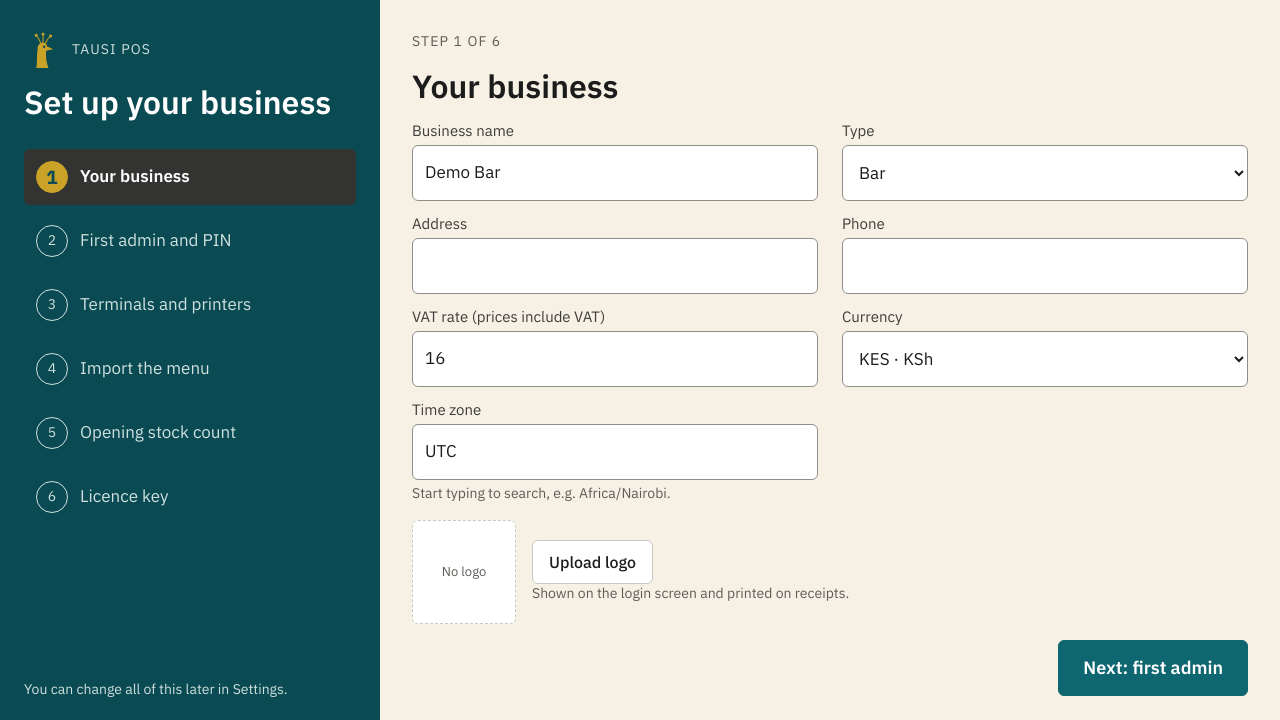
Test: Setup wizard › step 1 saves the business and shows its errors; Next goes to the owner
This screenshot has width=1280, height=720.
Check: the heading "Your business" is shown, box [412,65,618,107]
Check: the field labelled "Business name" holds "Demo Bar", box [412,145,818,201]
Click the button "Next: first admin" at (1153, 668), box [1058,640,1248,696]
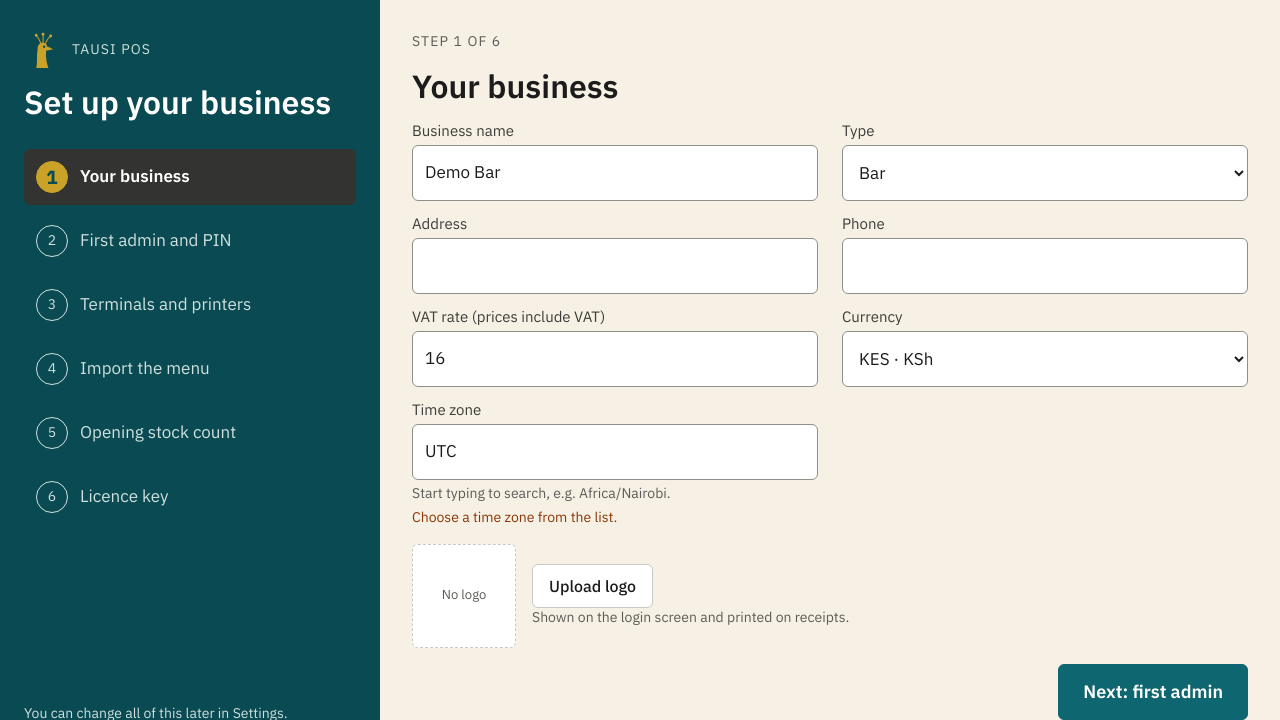
Check: the text "Choose a time zone from the list." is shown, box [412,508,617,526]
Click the button "Next: first admin" at (1153, 692), box [1058,664,1248,719]
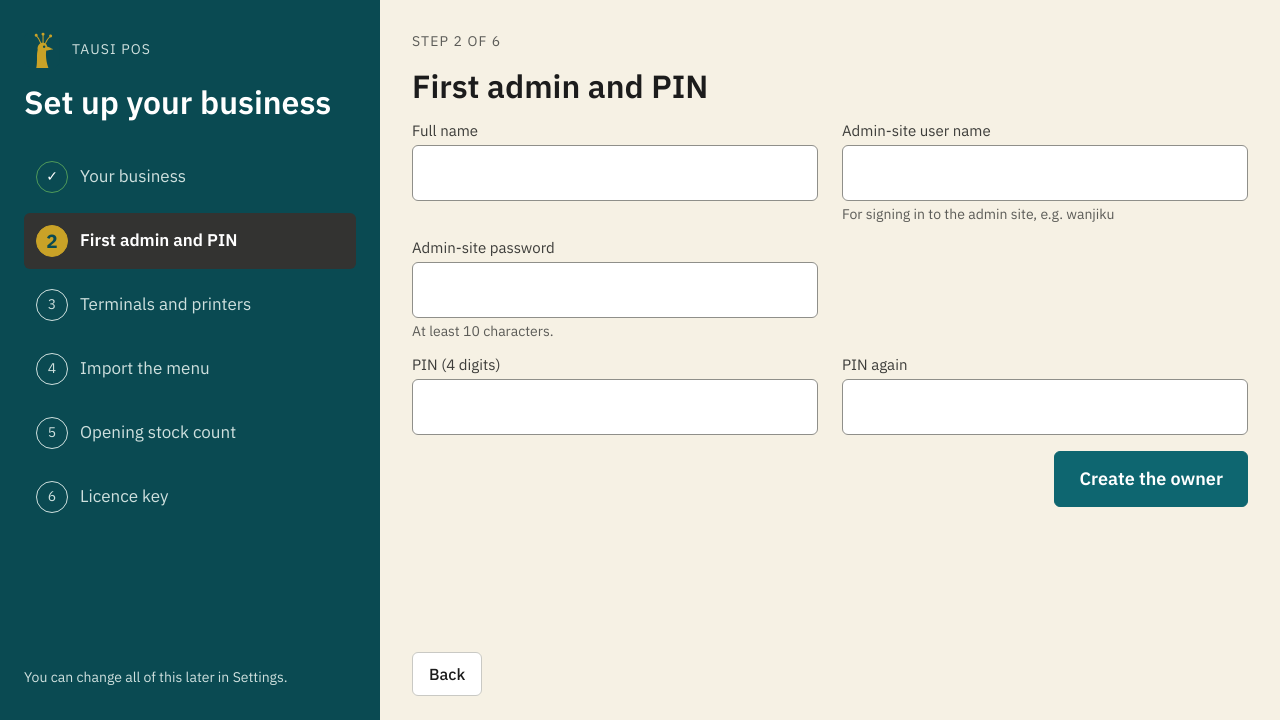
Check: the heading "First admin and PIN" is shown, box [412,65,708,107]
